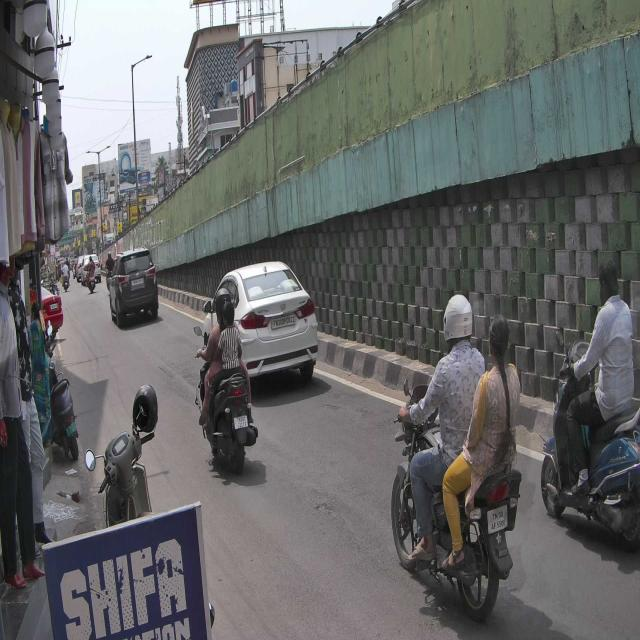double_rider: (390, 293, 522, 614), (192, 284, 259, 478)
single_rider: (539, 258, 640, 552)
